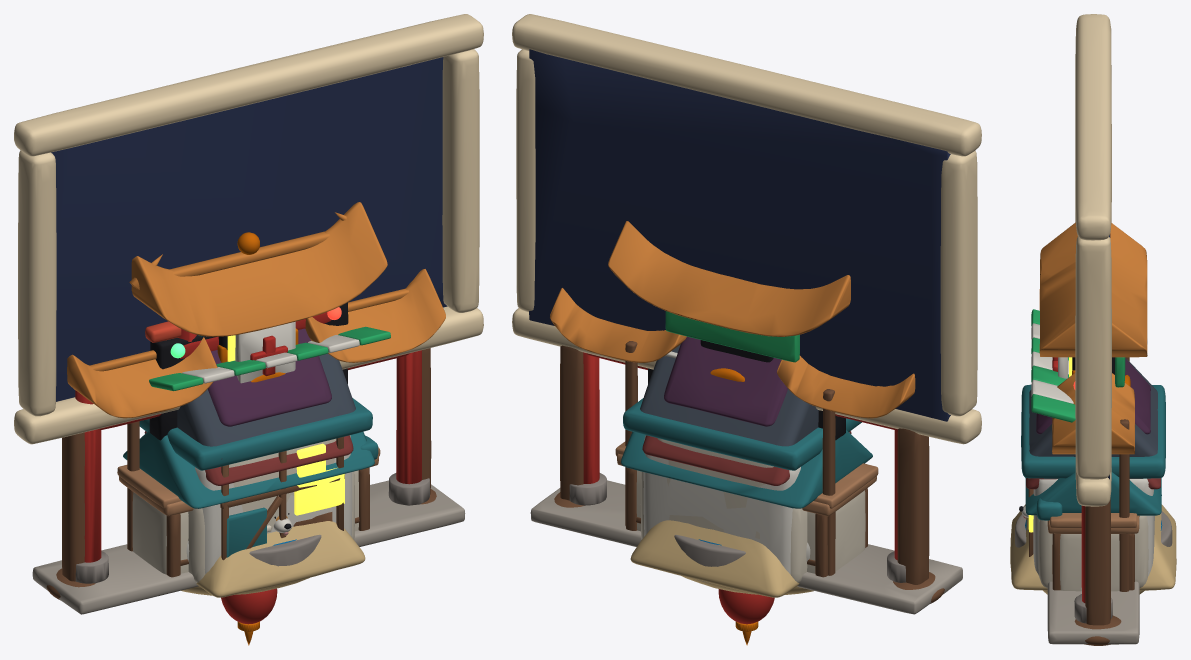
File: props.glb
The picture shows the model from 3 angles, left to right: view 1: azimuth 30°, elevation 25°; view 2: azimuth 150°, elevation 25°; view 3: azimuth 270°, elevation 25°; orthographic projection. The views are drawn at different scales.
Visible parts, largest first — view 1: screen_frame, gate, clinic, timber_house, shop, house_c, pyramid, house_b, scoreboard, workbench, house_a, lantern (+1 smaller); view 2: screen_frame, gate, clinic, shop, house_b, timber_house, house_c, pyramid, house_a, workbench, lantern, fountain; view 3: screen_frame, gate, shop, clinic, house_c, pyramid, timber_house, workbench, house_b, fountain, house_a.
Boxes of the visible parts, x1=… form: screen_frame: x1=14, y1=14, x2=483, y2=600; gate: x1=32, y1=202, x2=465, y2=614; clinic: x1=139, y1=321, x2=372, y2=573; timber_house: x1=177, y1=353, x2=355, y2=560; shop: x1=117, y1=326, x2=390, y2=574; house_c: x1=123, y1=430, x2=374, y2=582; pyramid: x1=196, y1=521, x2=365, y2=597; house_b: x1=208, y1=328, x2=331, y2=426; scoreboard: x1=145, y1=302, x2=348, y2=440; workbench: x1=119, y1=435, x2=378, y2=577; house_a: x1=144, y1=431, x2=353, y2=532; lantern: x1=221, y1=588, x2=277, y2=645; screen_frame: x1=512, y1=14, x2=981, y2=603; gate: x1=530, y1=221, x2=962, y2=614; clinic: x1=623, y1=398, x2=861, y2=574; shop: x1=615, y1=311, x2=878, y2=575; house_b: x1=664, y1=336, x2=787, y2=426; timber_house: x1=640, y1=344, x2=818, y2=538; house_c: x1=621, y1=430, x2=872, y2=582; pyramid: x1=630, y1=520, x2=799, y2=597; house_a: x1=642, y1=431, x2=851, y2=485; workbench: x1=617, y1=453, x2=876, y2=577; lantern: x1=718, y1=589, x2=774, y2=645; fountain: x1=674, y1=535, x2=745, y2=583; screen_frame: x1=1074, y1=14, x2=1121, y2=645; gate: x1=1039, y1=222, x2=1147, y2=644; shop: x1=1031, y1=309, x2=1137, y2=591; clinic: x1=1021, y1=357, x2=1165, y2=576; house_c: x1=1025, y1=472, x2=1161, y2=588; pyramid: x1=1010, y1=504, x2=1176, y2=590; timber_house: x1=1028, y1=357, x2=1157, y2=556; workbench: x1=1036, y1=498, x2=1139, y2=590; house_b: x1=1036, y1=358, x2=1150, y2=434; fountain: x1=1015, y1=511, x2=1172, y2=547; house_a: x1=1026, y1=478, x2=1160, y2=489.
Bounding box in the file's own units: 5.58 × 6.68 × 1.89.
